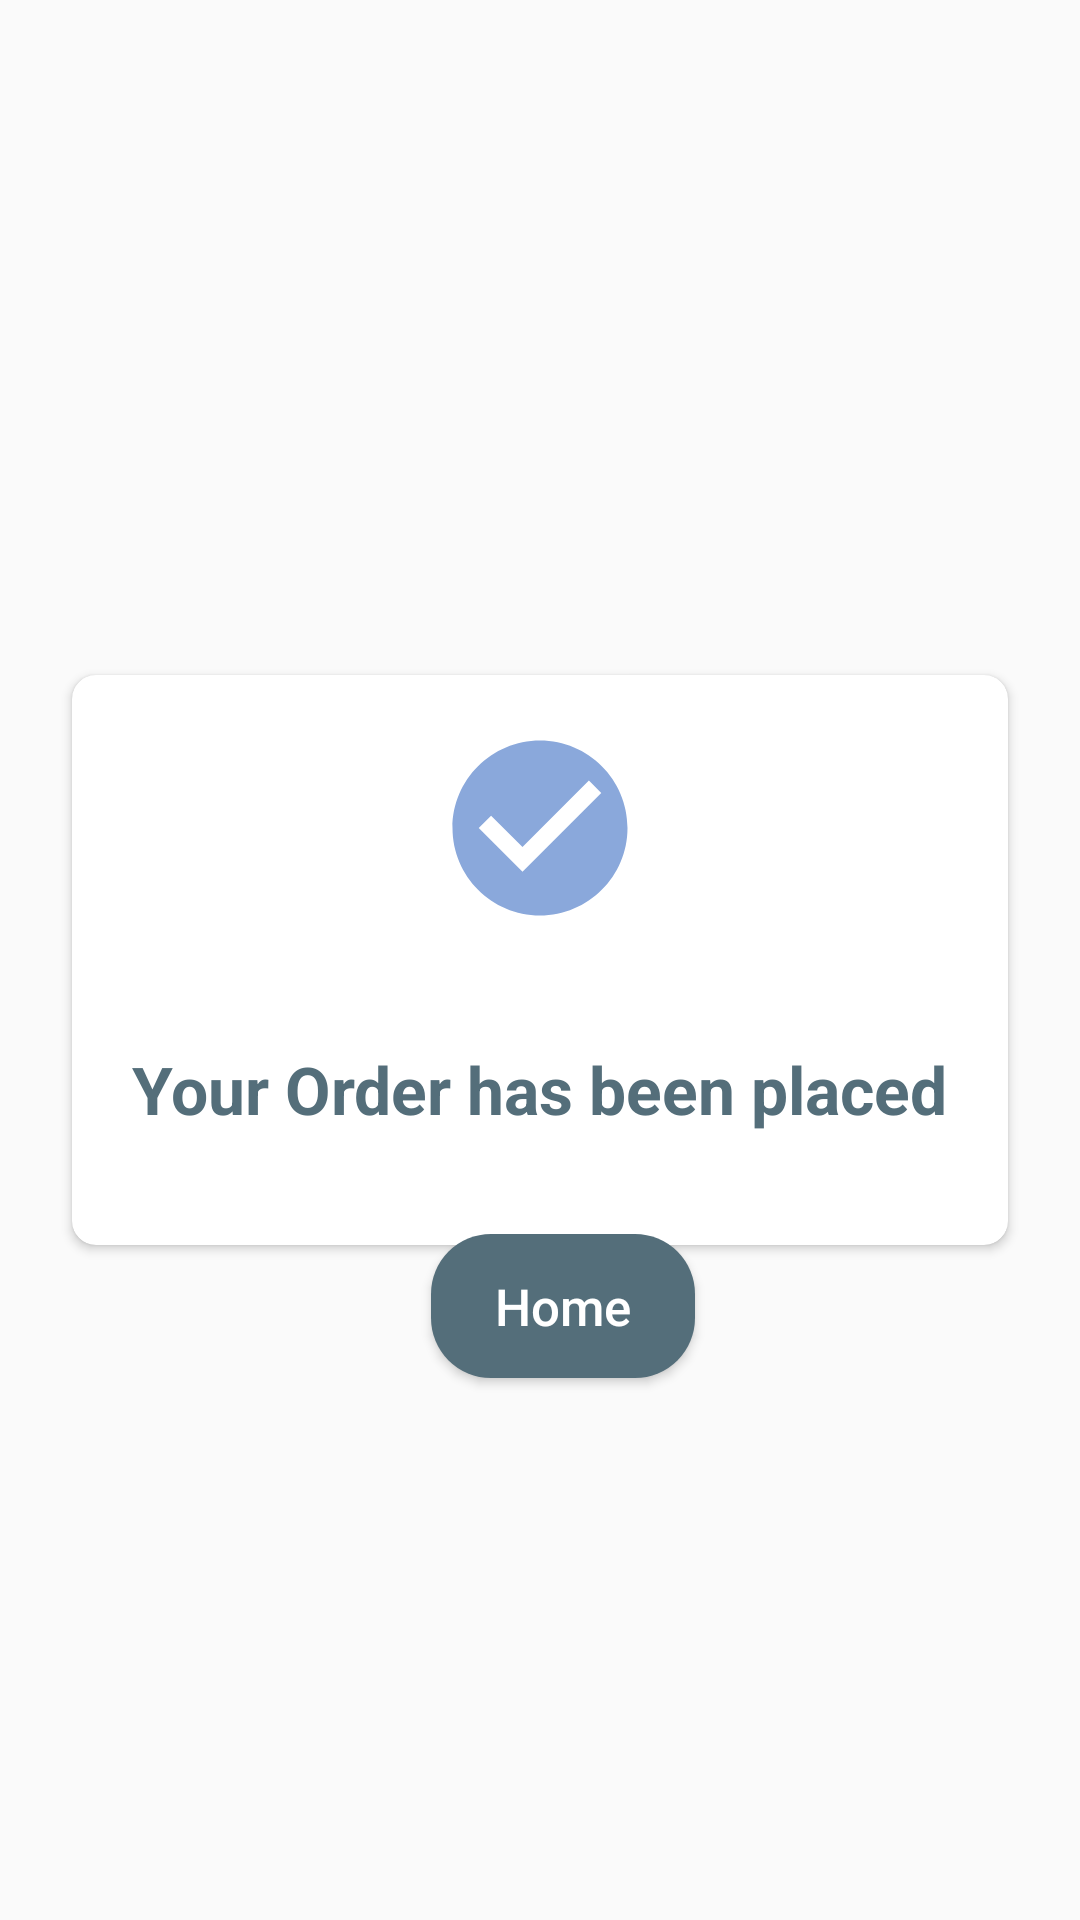

Point at icon controls on the screen. Image size 1080 x 1920, points as [x,y].
check circle: [540,828]
